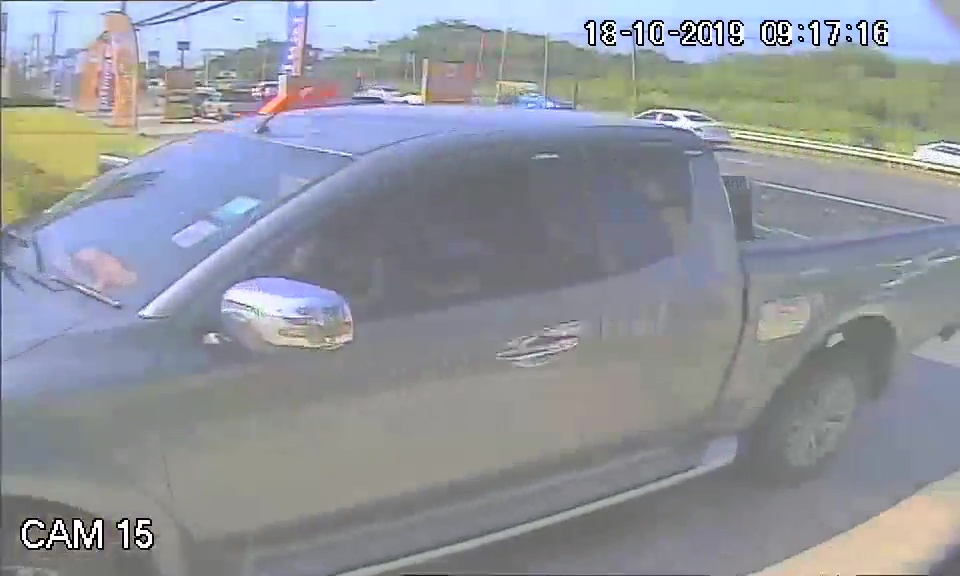pickup: (8, 97, 943, 529)
